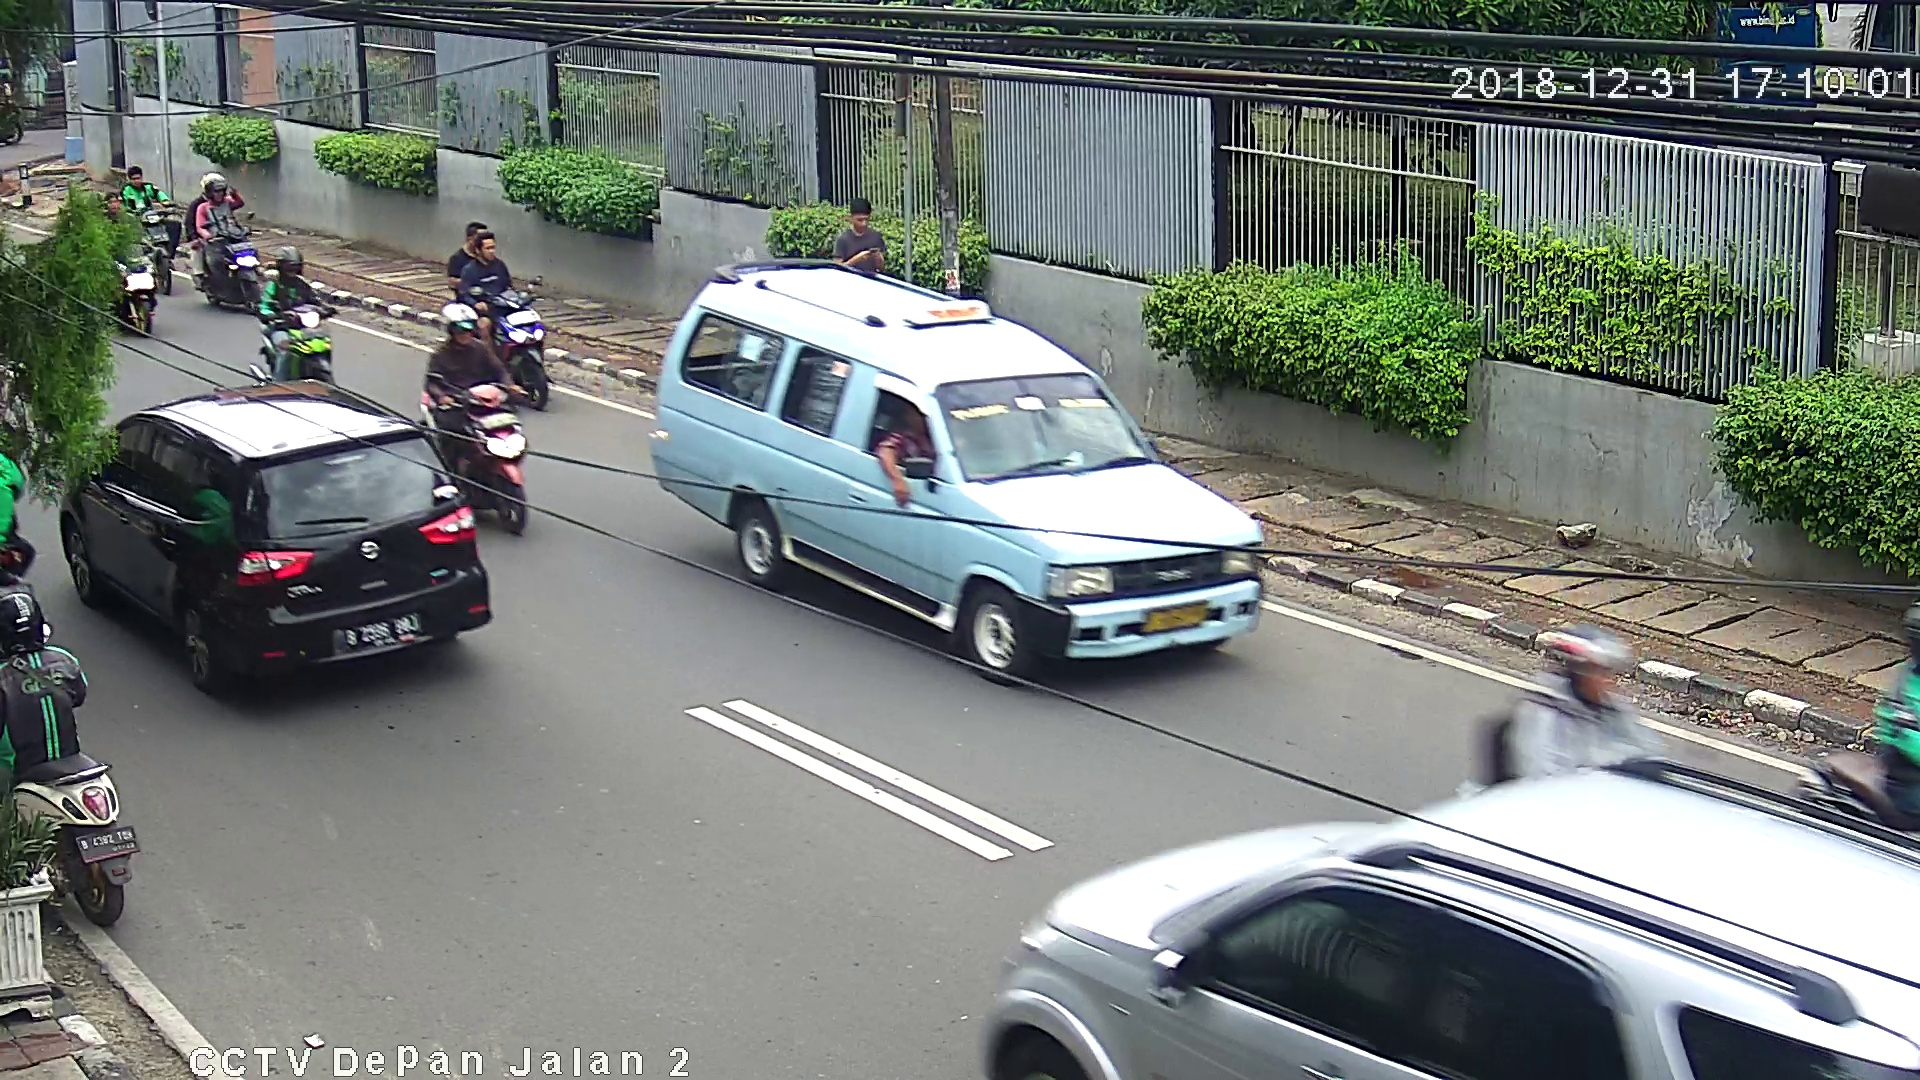car: (647, 253, 1270, 692), (57, 377, 493, 702)
motorcycle: (3, 580, 138, 932), (418, 299, 537, 542), (444, 212, 567, 401), (256, 245, 343, 390), (181, 175, 266, 316)
